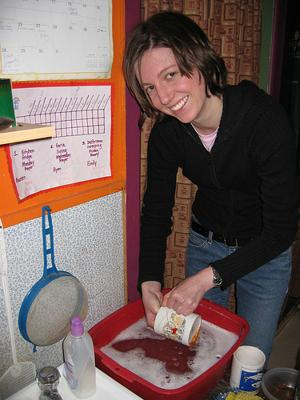person: (123, 8, 298, 370)
